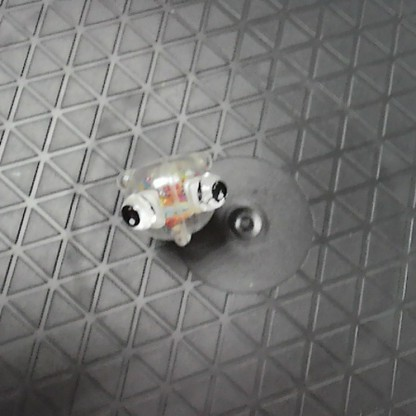whitefish: (114, 154, 232, 250)
